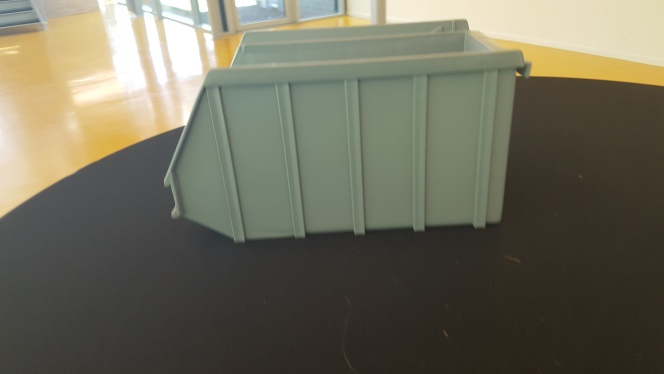tray_right: (163, 48, 534, 243)
